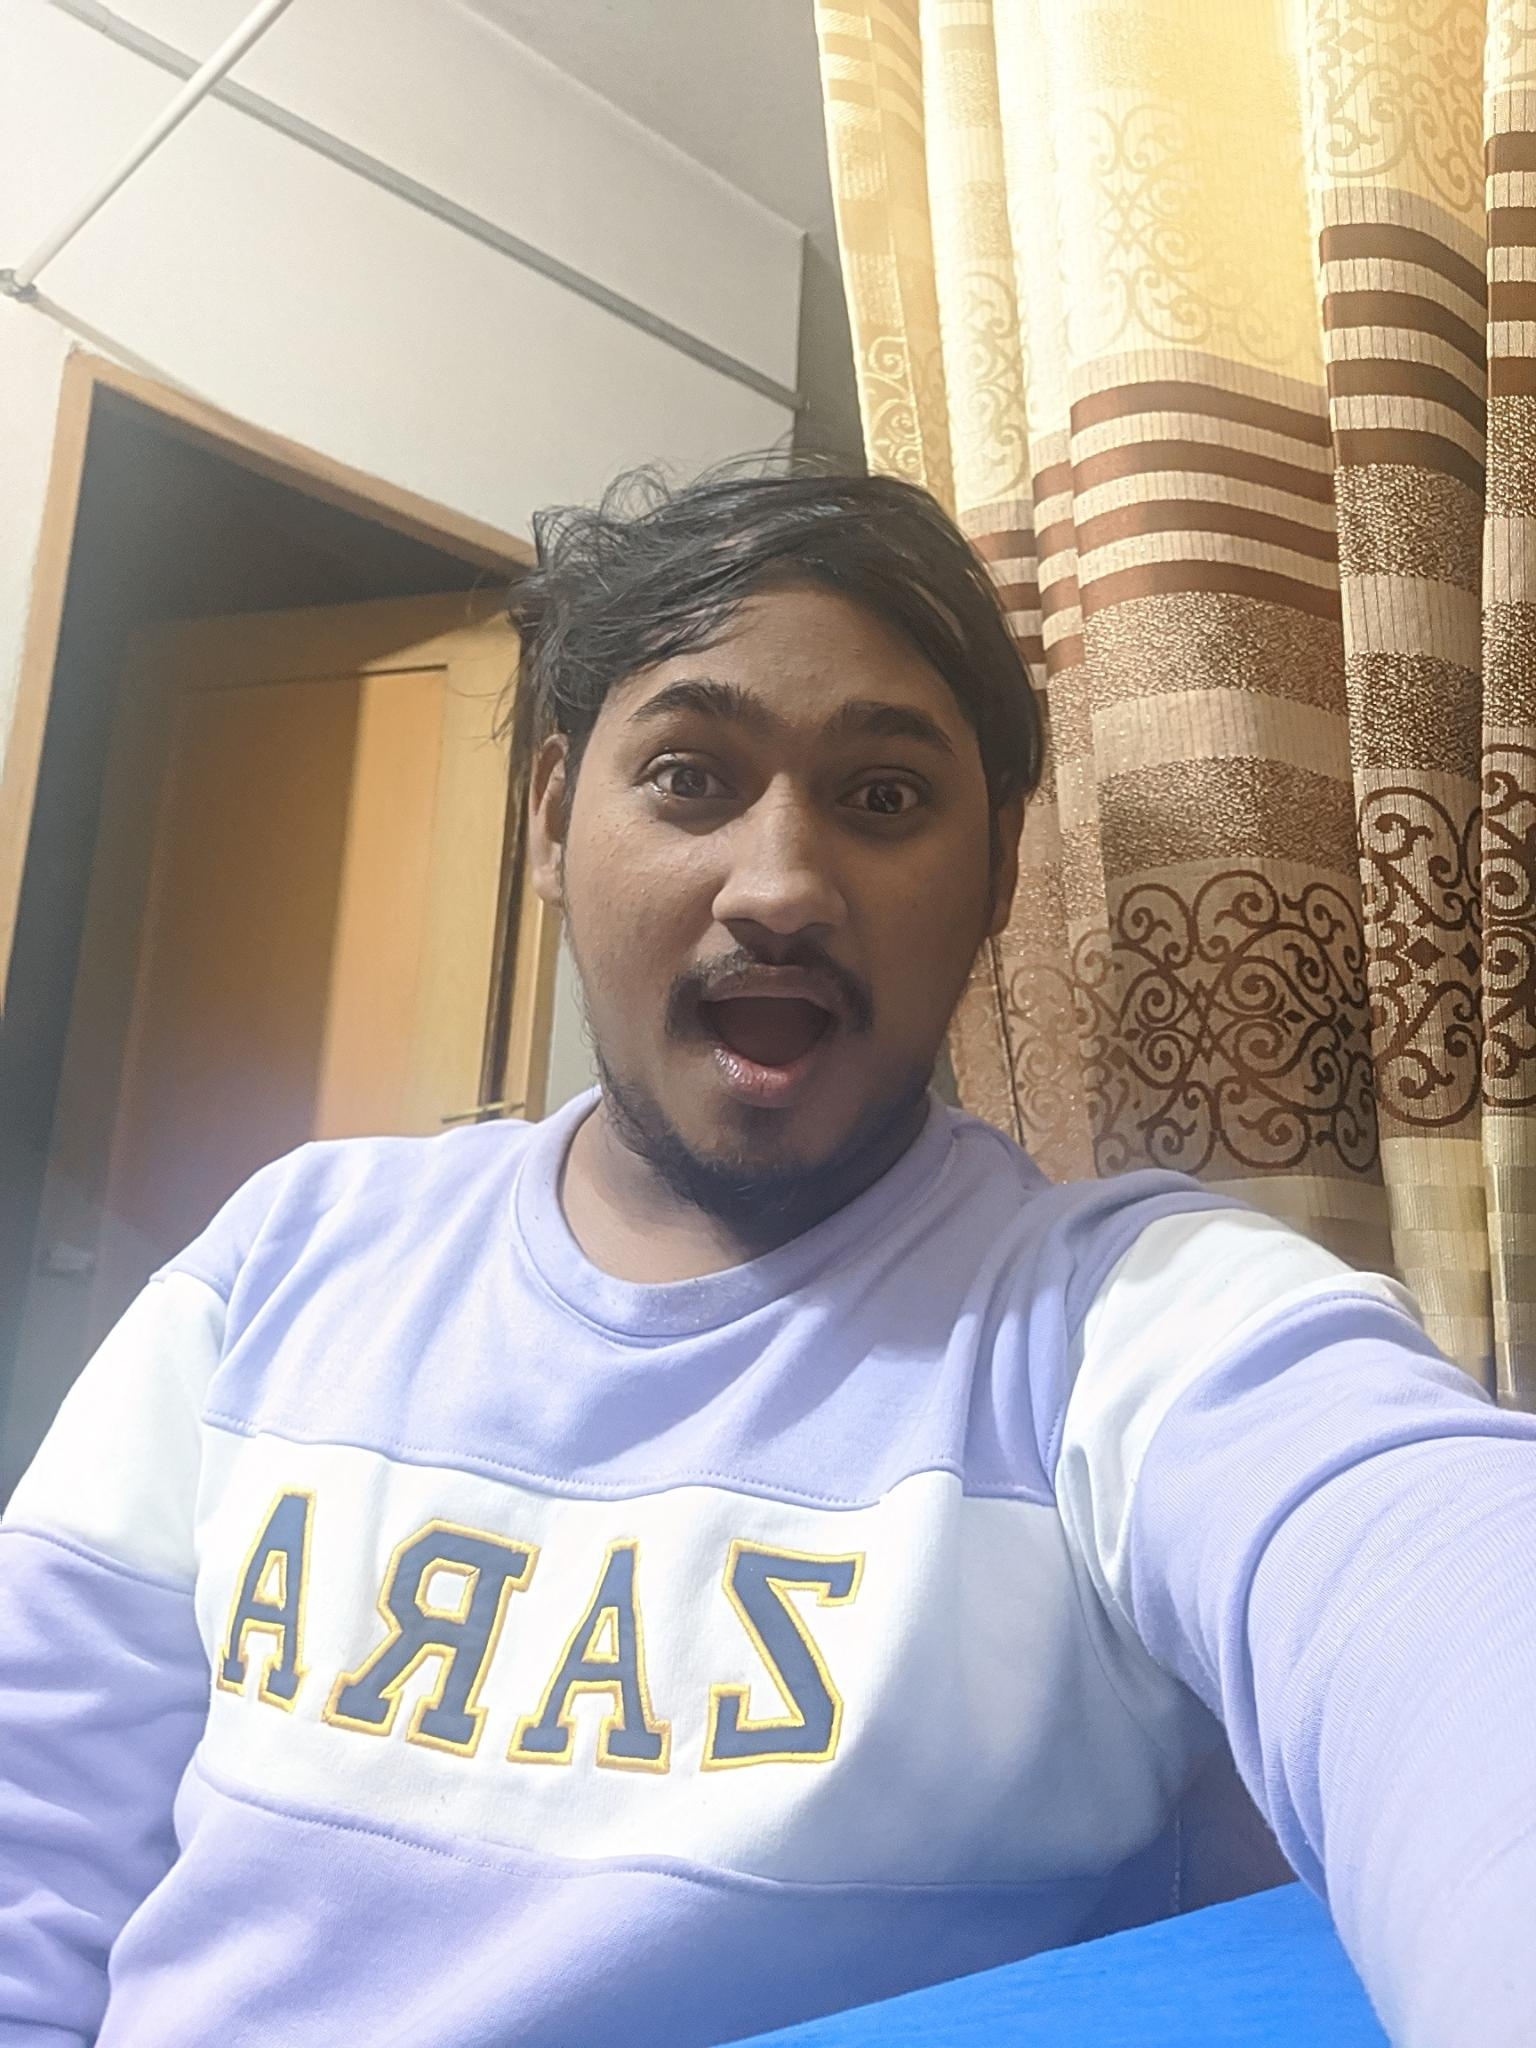Surprise: (539, 614, 1002, 1190)
